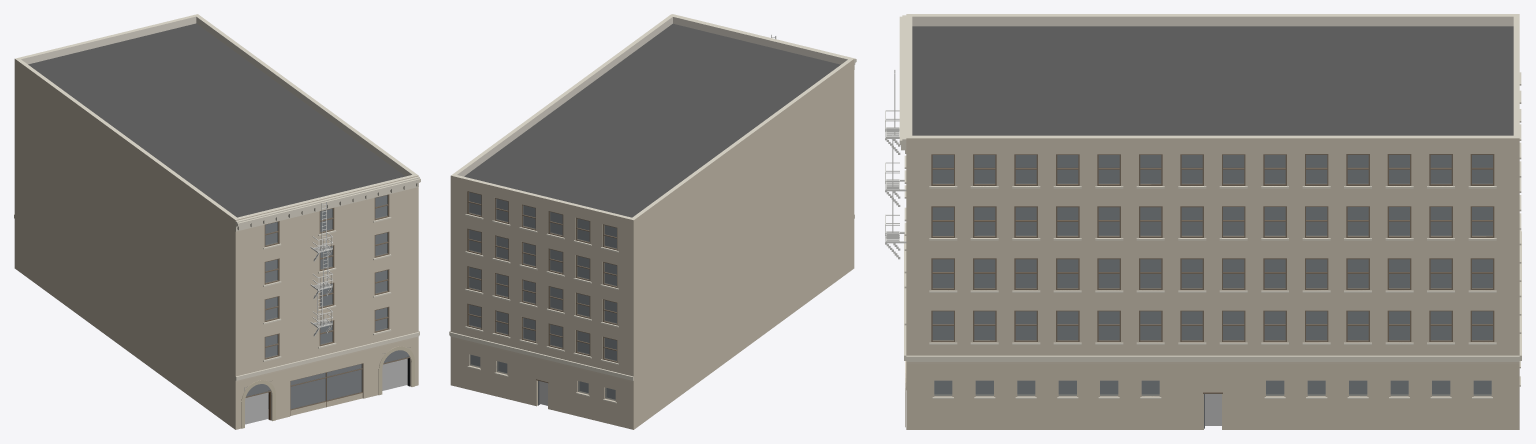
The model's file is exterior.glb.
The picture shows the model from 3 angles, left to right: view 1: azimuth 30°, elevation 25°; view 2: azimuth 150°, elevation 25°; view 3: azimuth 270°, elevation 25°; orthographic projection. The views are drawn at different scales.
Visible parts, largest first — view 1: shell, roof, shadow-proxy, glazing, trim, frames, fire-escape, storefront, hyC-arches-1; view 2: shell, roof, glazing, shadow-proxy, frames, trim; view 3: shell, roof, glazing, shadow-proxy, frames, trim, fire-escape.
Boxes of the visible parts, x1,y1,x2,y2 form: shell: [14, 14, 418, 429]; roof: [28, 23, 404, 217]; shadow-proxy: [245, 195, 408, 424]; glazing: [244, 195, 409, 409]; trim: [14, 176, 420, 380]; frames: [264, 194, 388, 359]; fire-escape: [310, 202, 332, 336]; storefront: [245, 357, 409, 420]; hyC-arches-1: [241, 346, 414, 428]; shell: [450, 14, 854, 429]; roof: [464, 23, 840, 217]; glazing: [469, 192, 616, 400]; shadow-proxy: [469, 192, 616, 405]; frames: [467, 191, 617, 362]; trim: [449, 14, 856, 403]; shell: [906, 14, 1519, 429]; roof: [912, 26, 1513, 135]; glazing: [932, 155, 1492, 396]; shadow-proxy: [933, 155, 1492, 425]; frames: [931, 154, 1494, 342]; trim: [899, 15, 1521, 398]; fire-escape: [885, 69, 906, 259].
Bounding box in the file's own units: 16.31 × 17.72 × 35.05.
